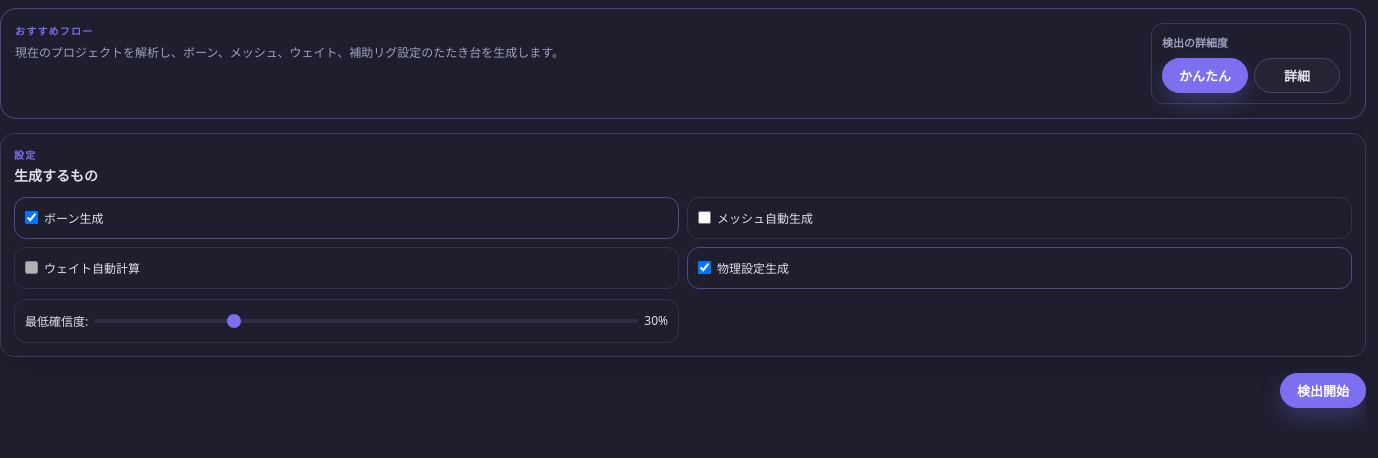
AutoSetupStepDetect › enables weight generation only after bones and meshes are both enabled
The width and height of the screenshot is (1378, 458).
Check: the checkbox labelled "ウェイト自動計算" is disabled, box [25,261,38,274]
Check: the checkbox labelled "物理設定生成" is checked, box [698,261,711,274]
Click the checkbox labelled "メッシュ自動生成": (704, 218) [698,211,711,224]
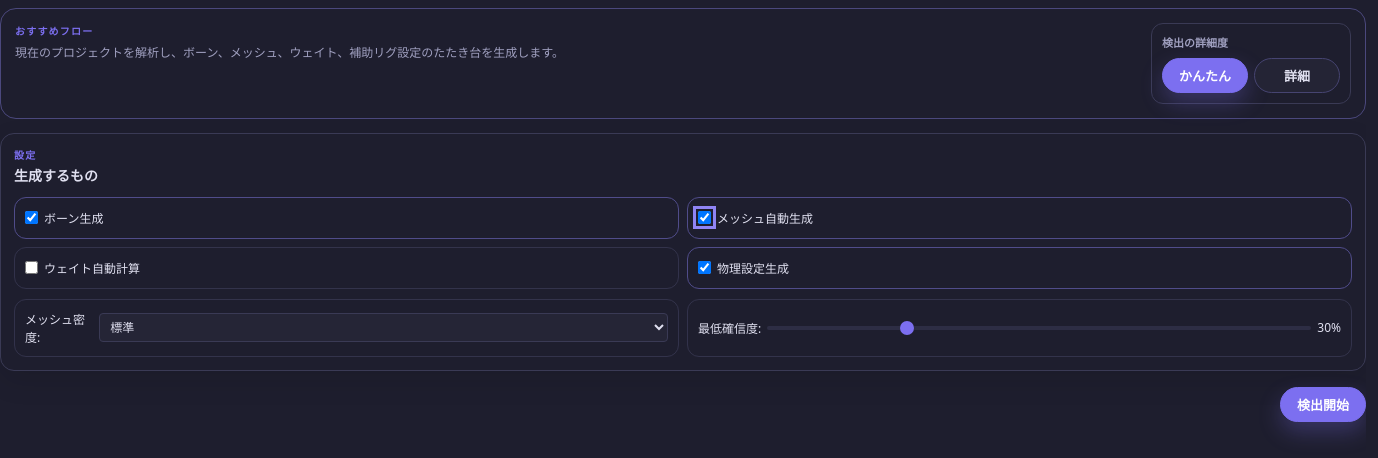
Check: the checkbox labelled "ウェイト自動計算" is enabled
Click the checkbox labelled "ウェイト自動計算": (32, 268) [25,261,38,274]
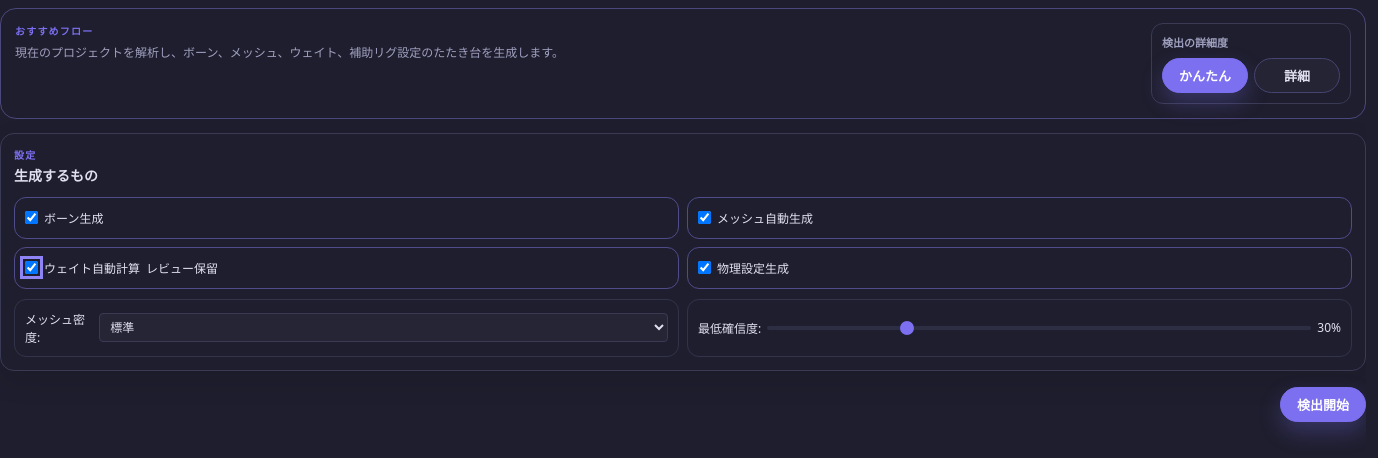
Check: the text with class "auto-setup-badge" reads "レビュー保留", box [146,260,218,276]
Click the checkbox labelled "ボーン生成": (32, 218) [25,211,38,224]
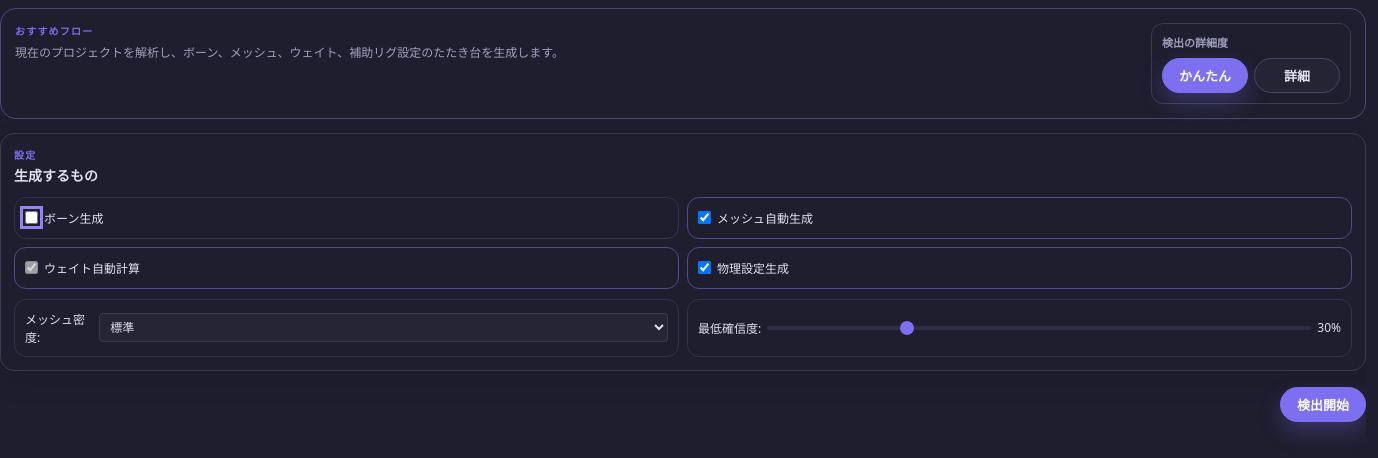
Check: the checkbox labelled "ウェイト自動計算" is disabled, box [25,261,38,274]
Check: the text with class "auto-setup-badge" is gone
